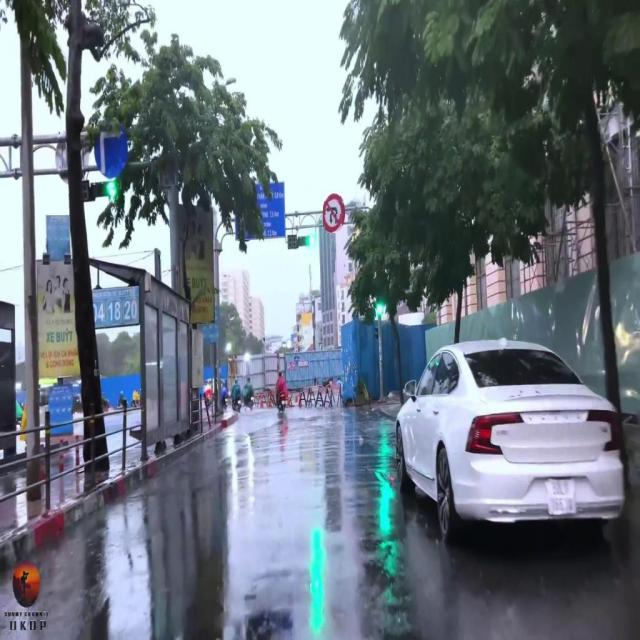khac: (323, 194, 344, 233)
